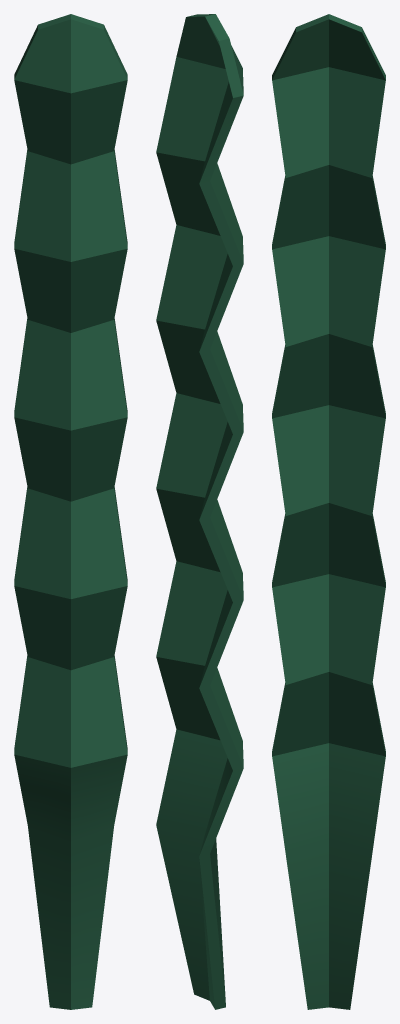
The model's file is Seaweed.fbx.
The picture shows the model from 3 angles, left to right: view 1: azimuth 90°, elevation 25°; view 2: azimuth 210°, elevation 25°; view 3: azimuth 270°, elevation 25°; orthographic projection.
Visible parts, largest first — view 1: Cube; view 2: Cube; view 3: Cube.
Boxes of the visible parts, <box> form: Cube: <box>14,14,127,1009</box>; Cube: <box>156,14,243,1009</box>; Cube: <box>272,14,385,1009</box>.
Size of the model in its own units: 20.27 by 293 by 30.52.
